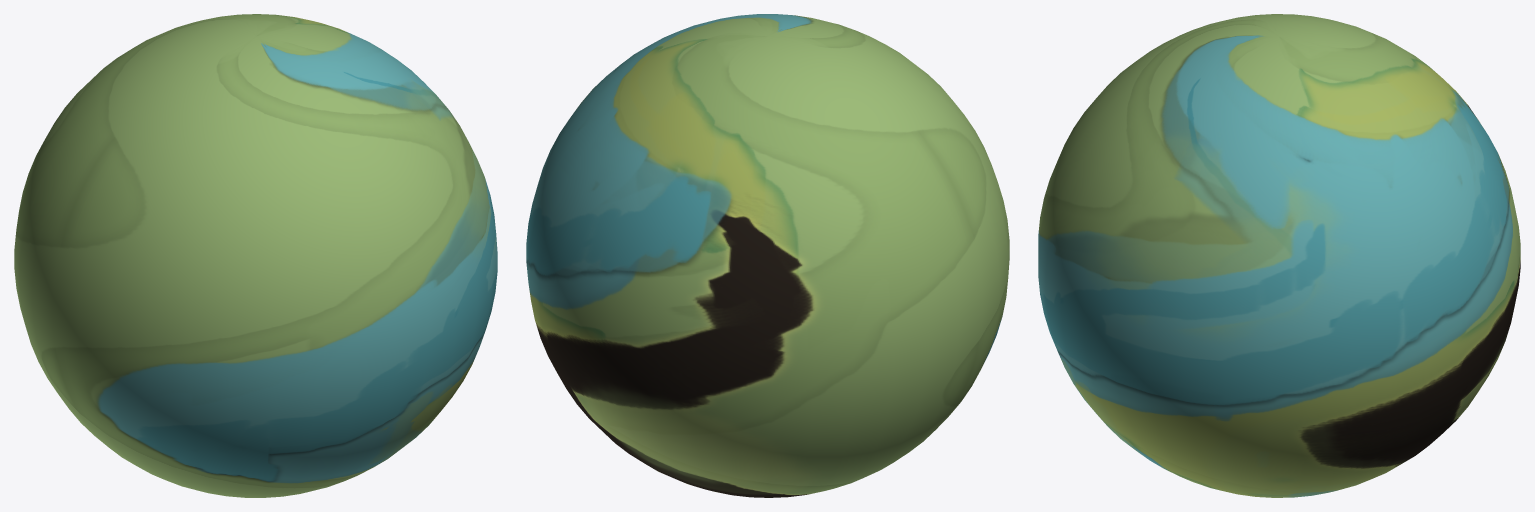
File: Butterfly_Marble.fbx
3 renders of one model, left to right at view 1: azimuth 30°, elevation 25°; view 2: azimuth 150°, elevation 25°; view 3: azimuth 270°, elevation 25°, orthographic.
Parts seen in each view (by area): view 1: Butterfly; view 2: Butterfly; view 3: Butterfly.
Part boxes in pixels (box(x1,y1,x2,y2)): Butterfly: box(14, 14, 497, 497); Butterfly: box(526, 14, 1009, 497); Butterfly: box(1038, 14, 1520, 497).
Bounding box in the file's own units: 200 × 200 × 199.
1 material, 1 textured.
